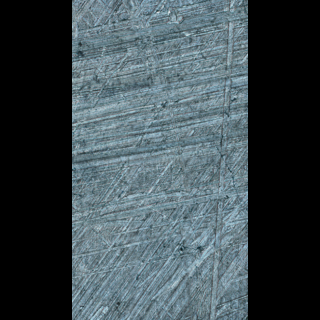d: (118, 0, 210, 319), (72, 157, 248, 231), (205, 0, 243, 319)
